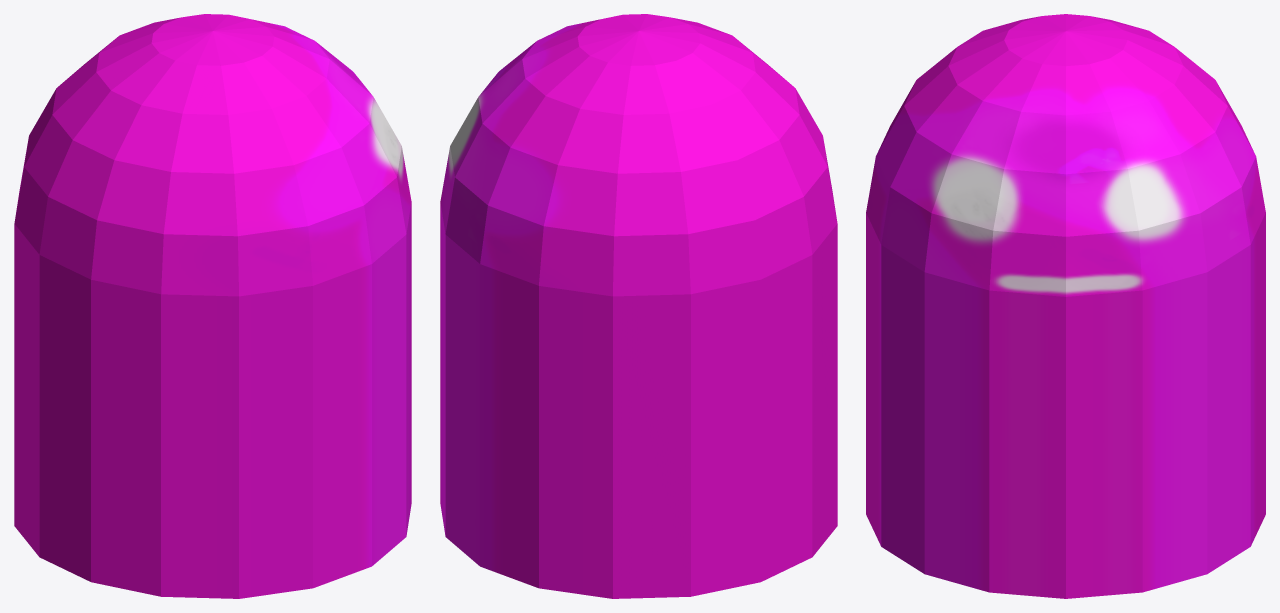
The model's file is char.obj.
The picture shows the model from 3 angles, left to right: view 1: azimuth 30°, elevation 25°; view 2: azimuth 150°, elevation 25°; view 3: azimuth 270°, elevation 25°; orthographic projection.
Visible parts, largest first — view 1: Sphere; view 2: Sphere; view 3: Sphere.
Boxes of the visible parts, x1,y1,x2,y2 form: Sphere: (14,14,411,598); Sphere: (440,14,837,598); Sphere: (866,14,1265,598).
Size of the model in its own units: 1.5 by 2 by 1.5.
1 material, 1 textured.
